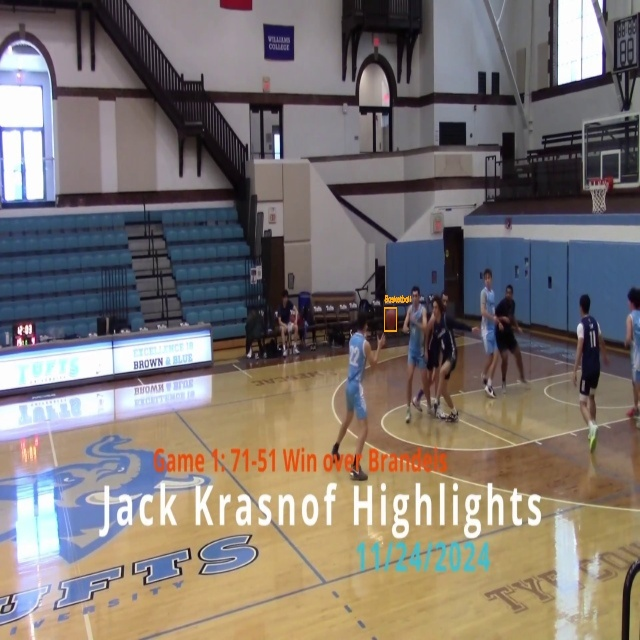Basketball: (384, 308, 397, 331)
